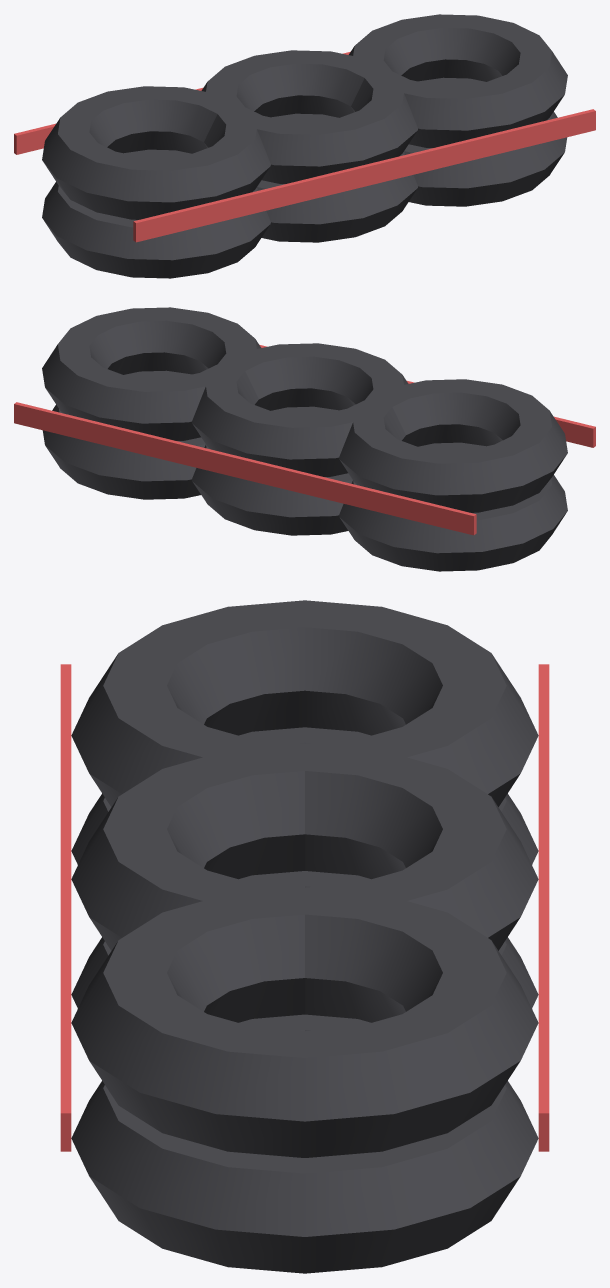
The model's file is rc_tire_barrier.glb.
3 views of the same model, one above another, from view 1: azimuth 30°, elevation 25°; view 2: azimuth 150°, elevation 25°; view 3: azimuth 270°, elevation 25° (orthographic). The views are drawn at different scales.
Visible parts, largest first — view 1: rc_tire_barrier; view 2: rc_tire_barrier; view 3: rc_tire_barrier.
Boxes of the visible parts, x1,y1,x2,y2 form: rc_tire_barrier: [14, 14, 595, 278]; rc_tire_barrier: [14, 307, 595, 571]; rc_tire_barrier: [60, 600, 549, 1273].
Size of the model in its own units: 2.16 by 0.4478 by 0.92.
